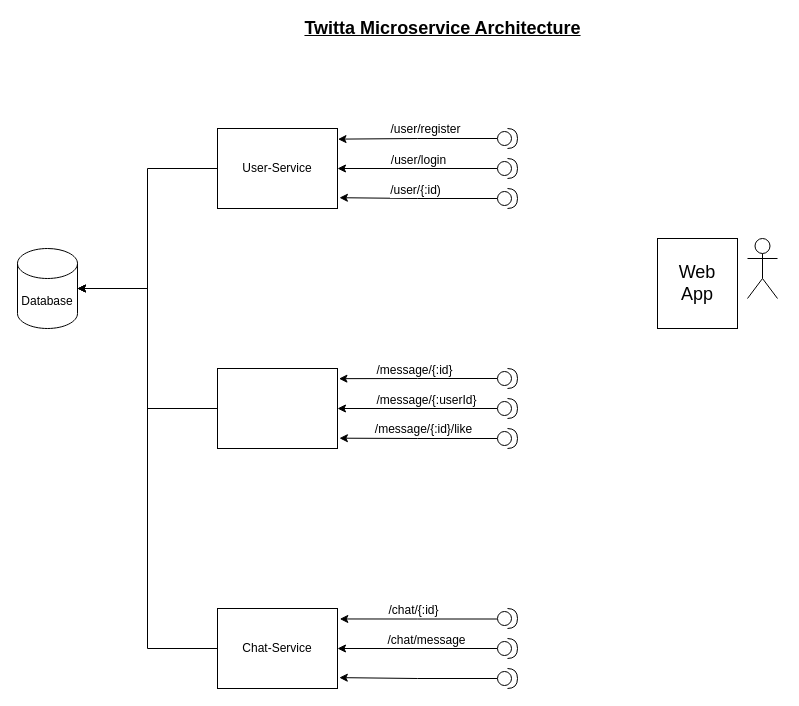
This 799x706 diagram has some shape labels left out. The shapes that lost their labels are listed below. From the top down, each one's centre as x and y in pixels, then its label:
pixel 762 268: User
pixel 277 408: Message-Service
